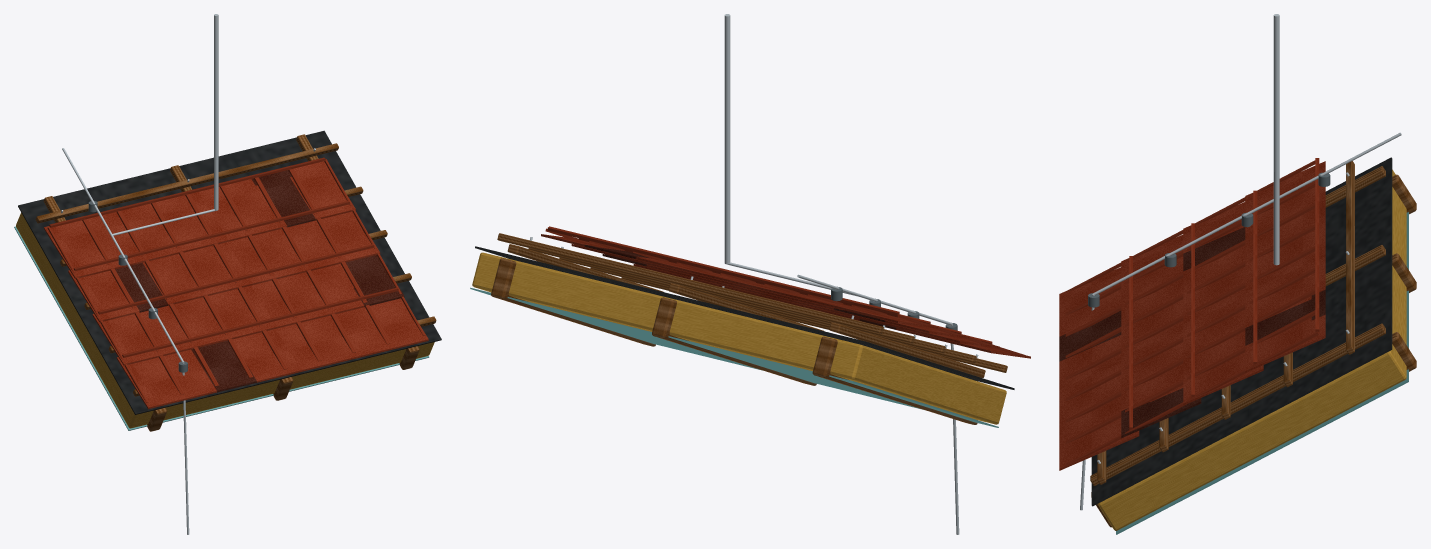
Rendered from modell.glb.
The picture shows the model from 3 angles, left to right: view 1: azimuth 30°, elevation 25°; view 2: azimuth 150°, elevation 25°; view 3: azimuth 270°, elevation 25°; orthographic projection. The views are drawn at different scales.
Visible parts, largest first — view 1: a04-deckziegel_deckung, a04-zusatzebene_zusatzebene, a04-daemmung_daemmung, a04-deckziegel_deckung.001, a04-lattung_lattung, a04-luftdichtheit_luftdichtheit, a04-ableitung_, a04-fangeinrichtung_, a04-sparren_tragwerk; view 2: a04-daemmung_daemmung, a04-lattung_lattung, a04-deckziegel_deckung, a04-sparren_tragwerk, a04-luftdichtheit_luftdichtheit, a04-zusatzebene_zusatzebene, a04-fangeinrichtung_, a04-ableitung_, a04-deckziegel_deckung.001; view 3: a04-deckziegel_deckung, a04-zusatzebene_zusatzebene, a04-daemmung_daemmung, a04-lattung_lattung, a04-deckziegel_deckung.001, a04-fangeinrichtung_, a04-luftdichtheit_luftdichtheit, a04-sparren_tragwerk, a04-ableitung_, a04-halter_.
Boxes of the visible parts, x1,y1,x2,y2 form: a04-deckziegel_deckung: (44,157,428,409); a04-zusatzebene_zusatzebene: (18,130,441,414); a04-daemmung_daemmung: (16,213,434,428); a04-deckziegel_deckung.001: (115,170,404,392); a04-lattung_lattung: (35,134,436,396); a04-luftdichtheit_luftdichtheit: (14,226,429,430); a04-ableitung_: (62,148,216,362); a04-fangeinrichtung_: (214,14,218,210); a04-sparren_tragwerk: (147,346,419,431); a04-daemmung_daemmung: (472,252,1006,424); a04-lattung_lattung: (497,233,1007,377); a04-deckziegel_deckung: (541,226,1030,358); a04-sparren_tragwerk: (491,258,977,424); a04-luftdichtheit_luftdichtheit: (470,287,998,427); a04-zusatzebene_zusatzebene: (475,246,1014,389); a04-fangeinrichtung_: (724,14,730,264); a04-ableitung_: (727,262,952,325); a04-deckziegel_deckung.001: (584,244,904,329); a04-deckziegel_deckung: (1059,158,1325,470); a04-zusatzebene_zusatzebene: (1091,157,1392,506); a04-daemmung_daemmung: (1098,169,1406,530); a04-lattung_lattung: (1090,161,1385,486); a04-deckziegel_deckung.001: (1059,227,1325,437); a04-fangeinrichtung_: (1273,14,1279,265); a04-luftdichtheit_luftdichtheit: (1116,212,1408,534); a04-sparren_tragwerk: (1091,174,1416,527); a04-ableitung_: (1093,132,1401,295); a04-halter_: (1088,172,1330,307).
Size of the model in its own units: 2.14 by 2.92 by 1.69.
Materials: 8 (5 with a texture image).
